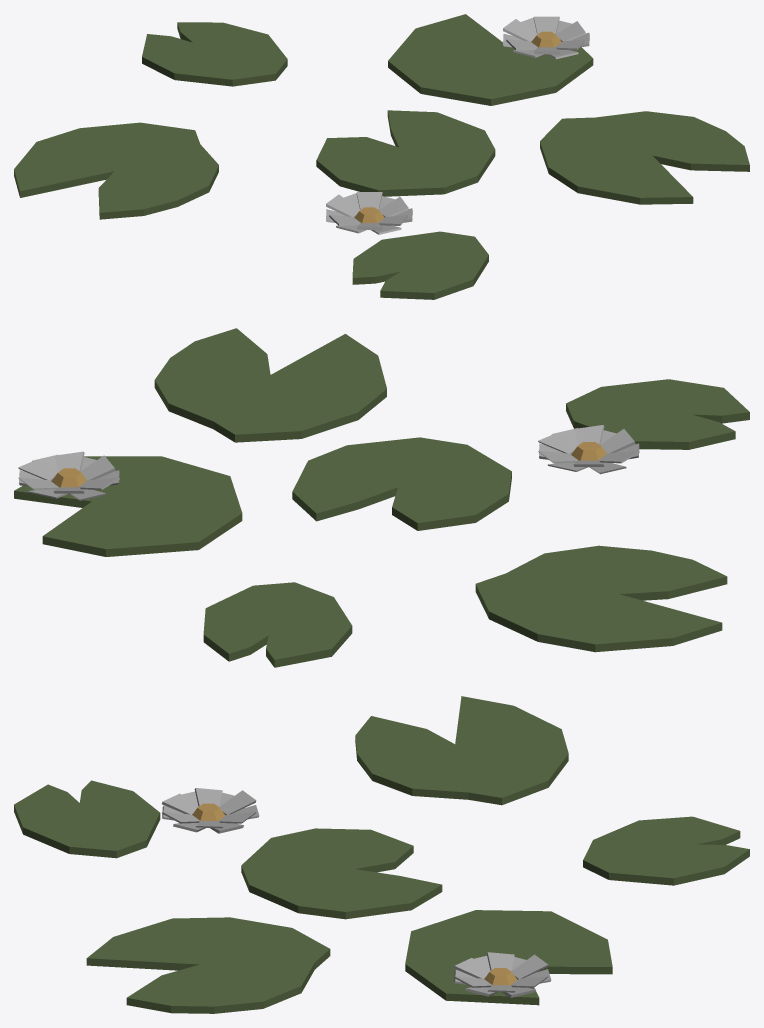
Rendered from SM_Envr_Nature_Plant_Lilypad.fbx.
The picture shows the model from 3 angles, top to bottom: view 1: azimuth 30°, elevation 25°; view 2: azimuth 150°, elevation 25°; view 3: azimuth 270°, elevation 25°; orthographic projection. The views are drawn at different scales.
Parts seen in each view (by area): view 1: SM_Envr_Nature_Plant_Lilypad; view 2: SM_Envr_Nature_Plant_Lilypad; view 3: SM_Envr_Nature_Plant_Lilypad.
Part boxes in pixels (x1,y1,x2,y2): SM_Envr_Nature_Plant_Lilypad: (14,14,749,299); SM_Envr_Nature_Plant_Lilypad: (14,328,749,667); SM_Envr_Nature_Plant_Lilypad: (14,696,749,1013).
Size of the model in its own units: 364 by 11.2 by 365.
